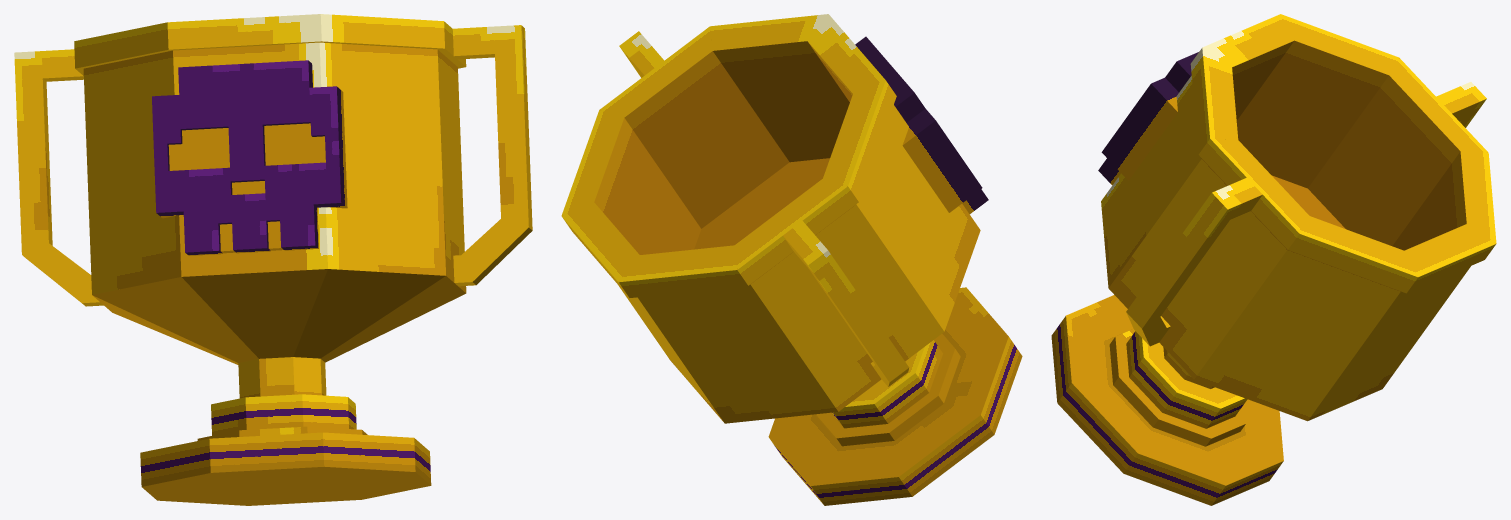
File: PVP_Trophy_Rotated_zRotOffset.gltf
3 renders of one model, left to right at view 1: azimuth 30°, elevation 25°; view 2: azimuth 150°, elevation 25°; view 3: azimuth 270°, elevation 25°, orthographic. The views are drawn at different scales.
Parts seen in each view (by area): view 1: trophyMesh.001; view 2: trophyMesh.001; view 3: trophyMesh.001.
Part boxes in pixels (<box>): trophyMesh.001: <box>14,14,532,505</box>; trophyMesh.001: <box>561,14,1022,505</box>; trophyMesh.001: <box>1051,14,1496,505</box>.
Size of the model in its own units: 46.42 by 54.94 by 49.46.
Materials: 1 (1 with a texture image).
